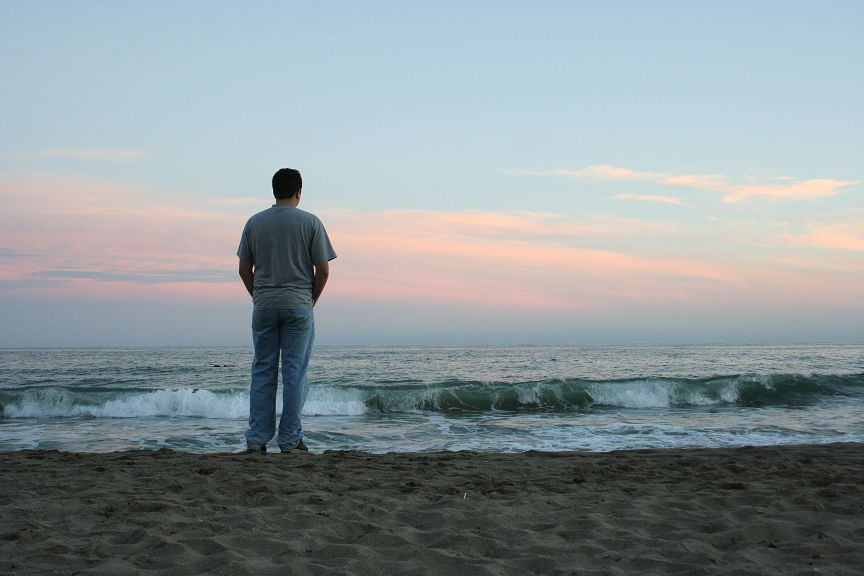person: (222, 182, 342, 475), (238, 161, 324, 434), (244, 240, 334, 450), (769, 394, 864, 574), (255, 280, 305, 423), (817, 482, 864, 576), (258, 329, 300, 429), (778, 526, 862, 574), (270, 336, 312, 427), (273, 364, 311, 438), (237, 227, 262, 311), (249, 365, 279, 434), (262, 385, 294, 449), (275, 394, 307, 451), (239, 250, 262, 320), (251, 391, 276, 445), (241, 307, 263, 365), (243, 293, 264, 352), (846, 538, 861, 571), (840, 550, 860, 574), (809, 551, 827, 569), (797, 551, 813, 569), (849, 545, 860, 570), (845, 10, 860, 28), (849, 17, 860, 38), (850, 38, 860, 61), (850, 54, 860, 77), (852, 519, 860, 547), (851, 531, 860, 555), (597, 554, 611, 569), (850, 23, 859, 46), (852, 506, 860, 531), (851, 516, 860, 538), (851, 224, 860, 246), (851, 239, 860, 261), (12, 551, 23, 569), (612, 555, 626, 569), (851, 255, 860, 276), (851, 71, 860, 92), (851, 11, 860, 31), (851, 87, 860, 107), (851, 271, 860, 291), (852, 494, 860, 516), (852, 132, 860, 154), (14, 556, 25, 572), (851, 502, 859, 523), (852, 118, 860, 139), (8, 543, 16, 564), (852, 164, 860, 184), (852, 195, 860, 215), (852, 210, 860, 230), (852, 148, 860, 168), (852, 180, 860, 199), (852, 287, 860, 306), (852, 103, 860, 122), (555, 557, 567, 569), (853, 28, 860, 48), (853, 482, 860, 501), (853, 389, 860, 407), (852, 490, 859, 507), (853, 304, 860, 321), (853, 321, 860, 337), (853, 401, 859, 418), (572, 562, 583, 571), (853, 399, 860, 413), (853, 414, 860, 428), (853, 476, 859, 492), (564, 562, 574, 571), (853, 384, 859, 399), (853, 337, 859, 352), (854, 461, 860, 476), (853, 353, 859, 367), (853, 369, 859, 383), (854, 430, 860, 443), (14, 554, 20, 566), (13, 558, 19, 569), (732, 428, 736, 433), (747, 416, 751, 421), (733, 417, 736, 423), (773, 409, 777, 413), (763, 415, 767, 419), (772, 423, 776, 427), (764, 404, 767, 409), (741, 425, 744, 430), (746, 428, 749, 433), (727, 425, 730, 430), (788, 423, 791, 428), (773, 397, 776, 402), (755, 424, 758, 429), (802, 424, 805, 429), (502, 418, 505, 423), (455, 419, 458, 424), (486, 418, 489, 423), (787, 410, 790, 414), (757, 410, 760, 414), (441, 418, 444, 422), (547, 417, 550, 421), (533, 418, 536, 422), (472, 420, 475, 424), (516, 418, 519, 422)
